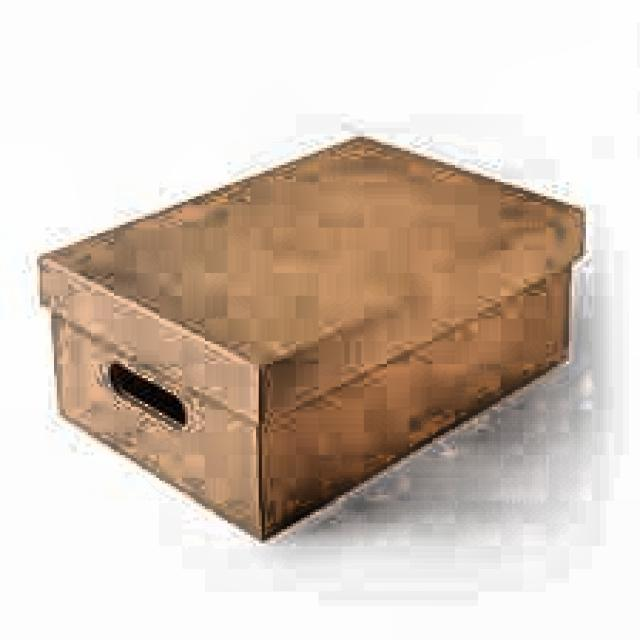Cardbox: (27, 131, 600, 551)
